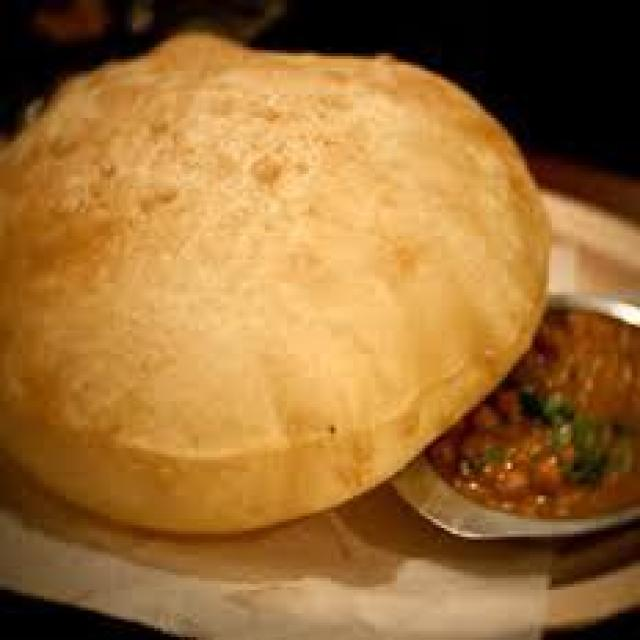puri: (0, 26, 549, 542)
